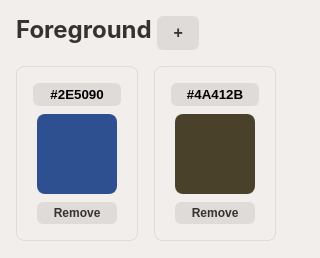
ForegroundSection Component › removes a color when the remove button is clicked
The image size is (320, 258).
Click the button with aria-label "Remove selected color fg-1".
click(77, 213)  # box 37,202 -> 117,224
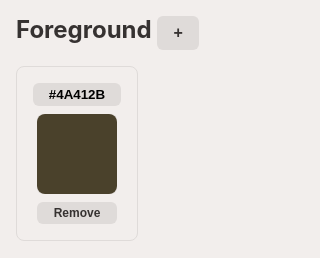
expect the number of fields is 1: met, box 33,83 -> 121,106
expect the field holds "#4A412B": met, box 33,83 -> 121,106
